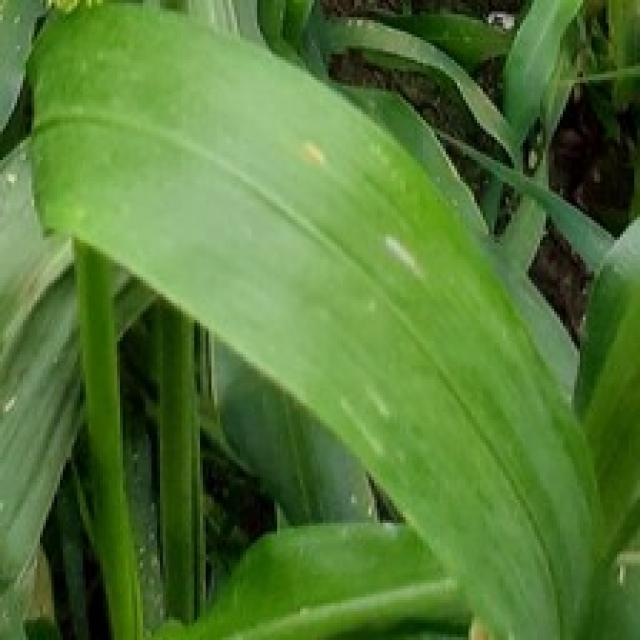Corn: (23, 0, 603, 637), (0, 132, 86, 637)
